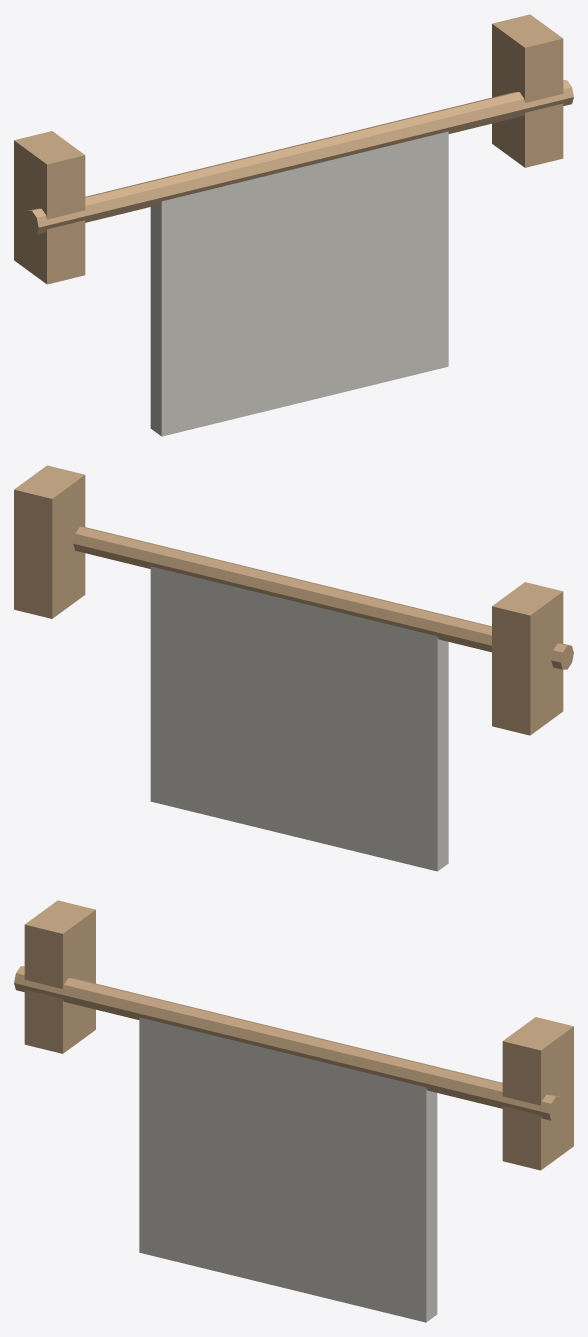
File: prop-towel-rack-wall.fbx
3 renders of one model, top to bottom at view 1: azimuth 30°, elevation 25°; view 2: azimuth 150°, elevation 25°; view 3: azimuth 330°, elevation 25°, orthographic.
Visible parts, largest first — view 1: prop-towel-rack-wall; view 2: prop-towel-rack-wall; view 3: prop-towel-rack-wall.
Boxes of the visible parts, <box> form: prop-towel-rack-wall: <box>14,14,573,436</box>; prop-towel-rack-wall: <box>14,465,573,871</box>; prop-towel-rack-wall: <box>14,900,573,1322</box>.
Size of the model in its own units: 56 by 30 by 6.2.
